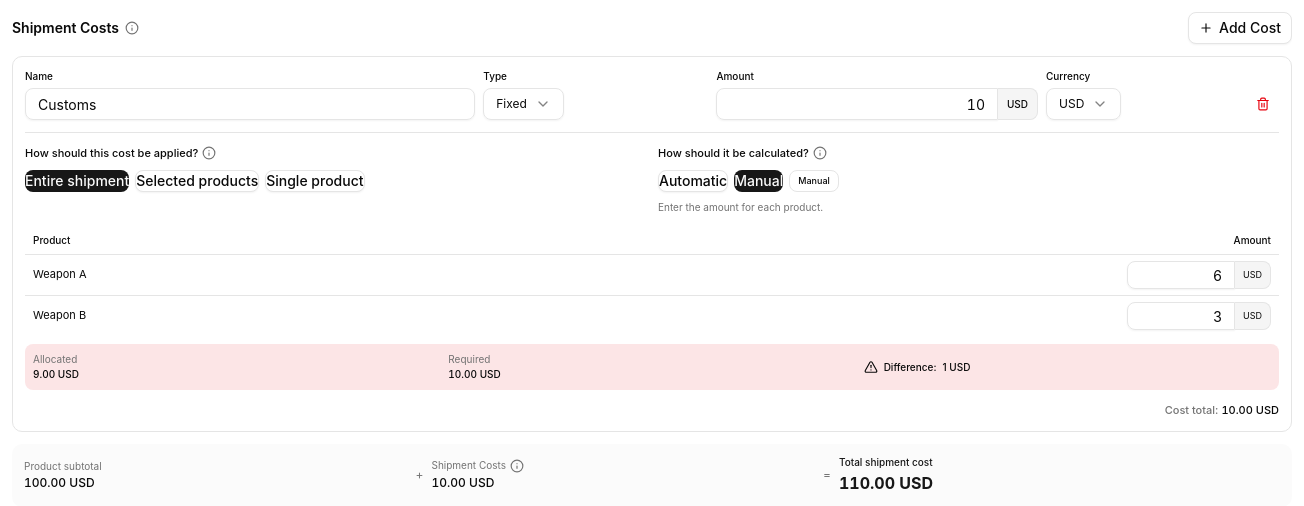
Test: daily-use cost editors › marks manual shipment allocation invalid until it balances
Check: the text "Difference:" is shown, box x1=864 y1=360 x2=970 y2=374
Check: the text "1 USD" is shown, box x1=942 y1=360 x2=970 y2=374
Step 1. Replace the text in the field showing "3" in the row of "Weapon B" with "4" → (1181, 316), box x1=1127 y1=302 x2=1235 y2=330
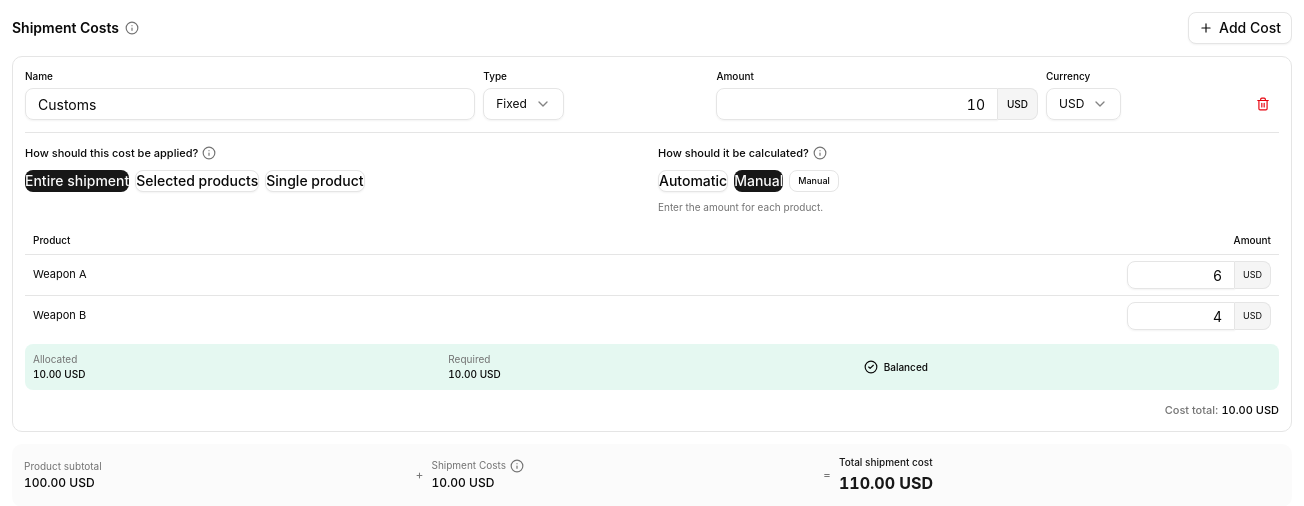
Check: the text "Balanced" is shown, box x1=864 y1=360 x2=928 y2=374
